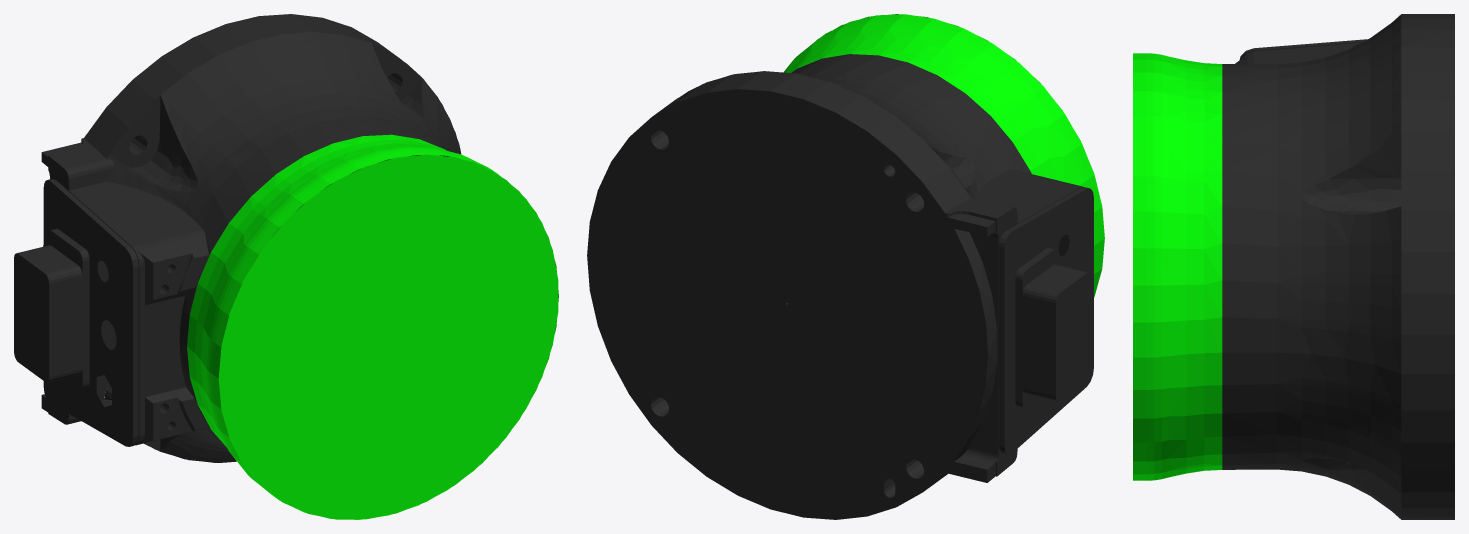
3 renders of one model, left to right at view 1: azimuth 30°, elevation 25°; view 2: azimuth 150°, elevation 25°; view 3: azimuth 270°, elevation 25°, orthographic. The views are drawn at different scales.
Visible parts, largest first — view 1: node; view 2: node; view 3: node.
Part boxes in pixels (x1,y1,x2,y2): node: (14,14,558,519); node: (587,14,1104,519); node: (1133,14,1454,519).
Bounding box in the file's own units: 316 × 282 × 180.
